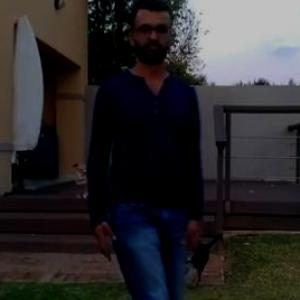follow: (116, 29, 220, 299)
